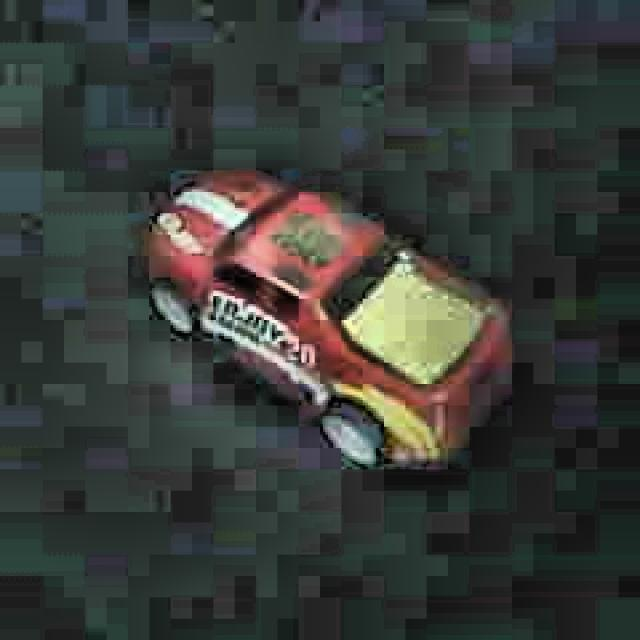car: (137, 151, 524, 487)
